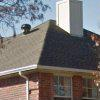Chimney: (50, 1, 91, 40)
